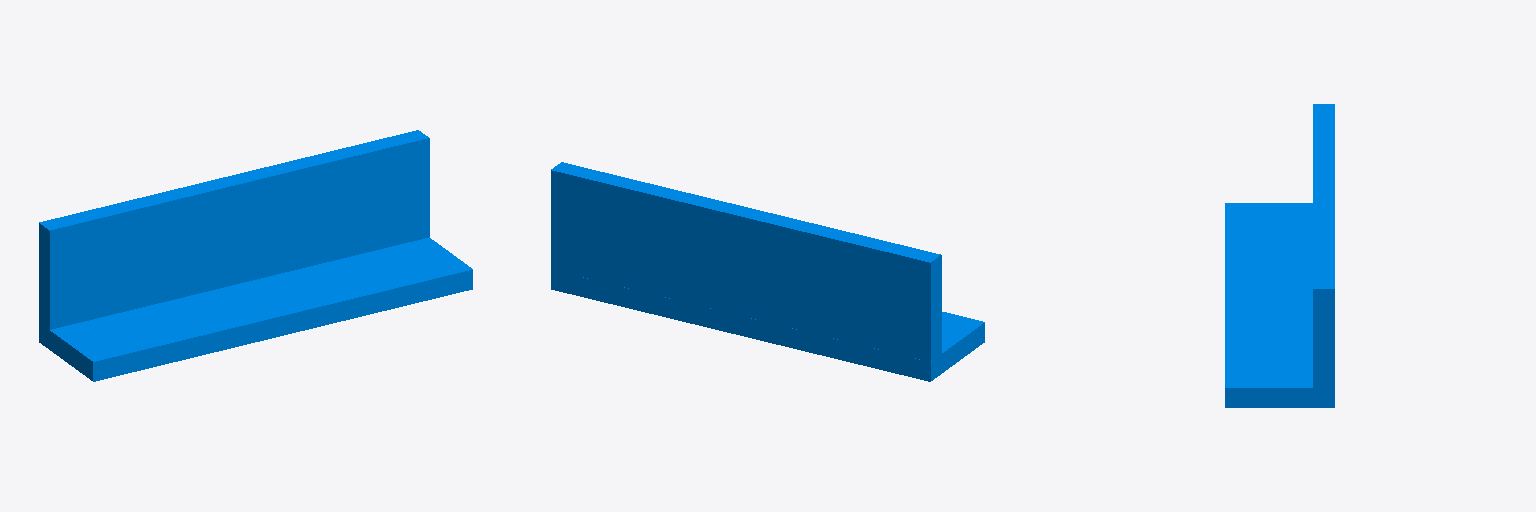
The model's file is ghe.obj.
3 renders of one model, left to right at view 1: azimuth 30°, elevation 25°; view 2: azimuth 150°, elevation 25°; view 3: azimuth 270°, elevation 25°, orthographic.
Visible parts, largest first — view 1: obj1, obj2; view 2: obj1, obj2; view 3: obj2, obj1.
Part boxes in pixels (left/top/right/bottom): obj1: left=39, top=130, right=429, bottom=329; obj2: left=39, top=237, right=472, bottom=381; obj1: left=551, top=162, right=941, bottom=361; obj2: left=551, top=270, right=984, bottom=381; obj2: left=1225, top=203, right=1334, bottom=407; obj1: left=1313, top=104, right=1334, bottom=387.
Size of the model in its own units: 0.2 by 0.06 by 0.05.